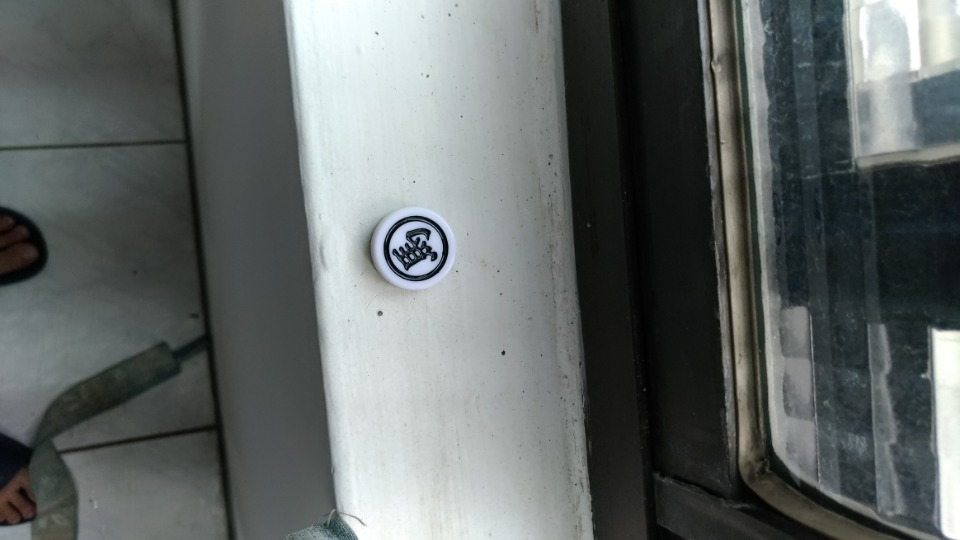b-knight: (358, 195, 470, 293)
